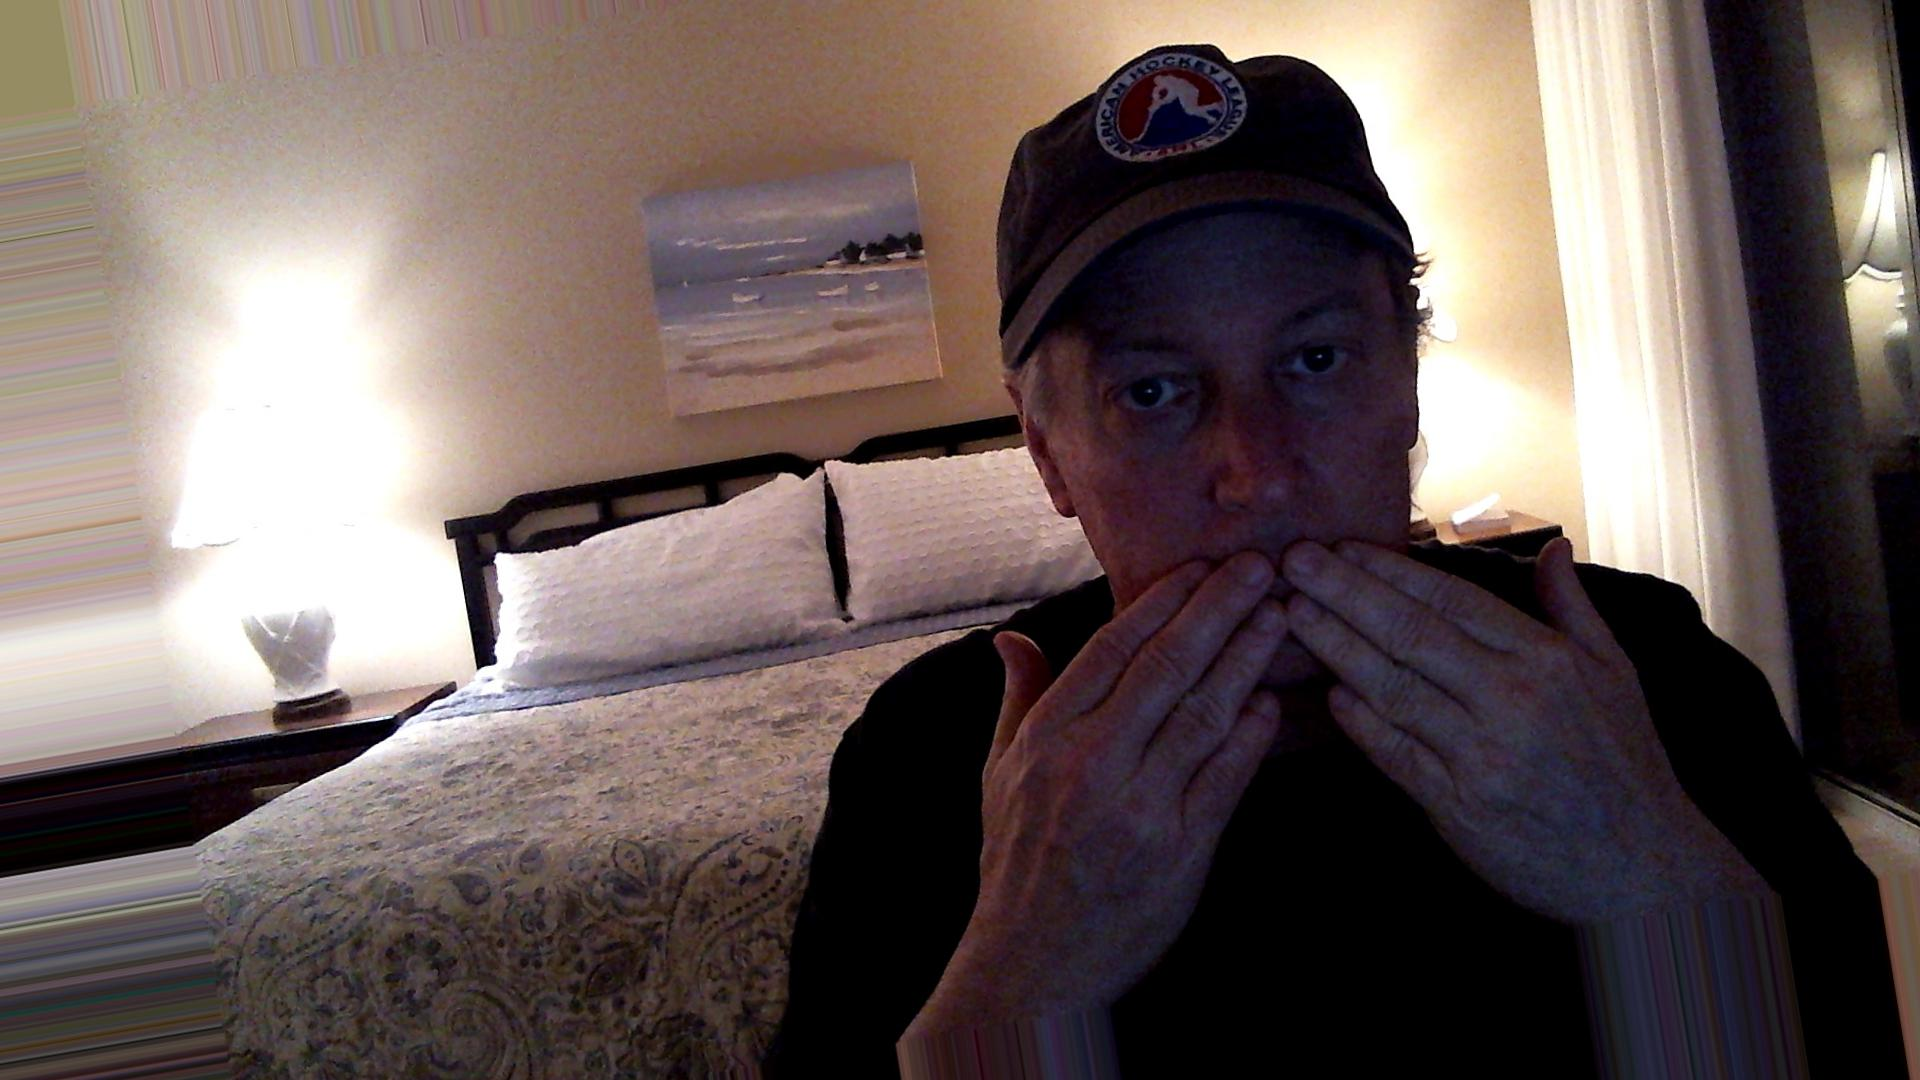Thank You: (955, 522, 1702, 880)
